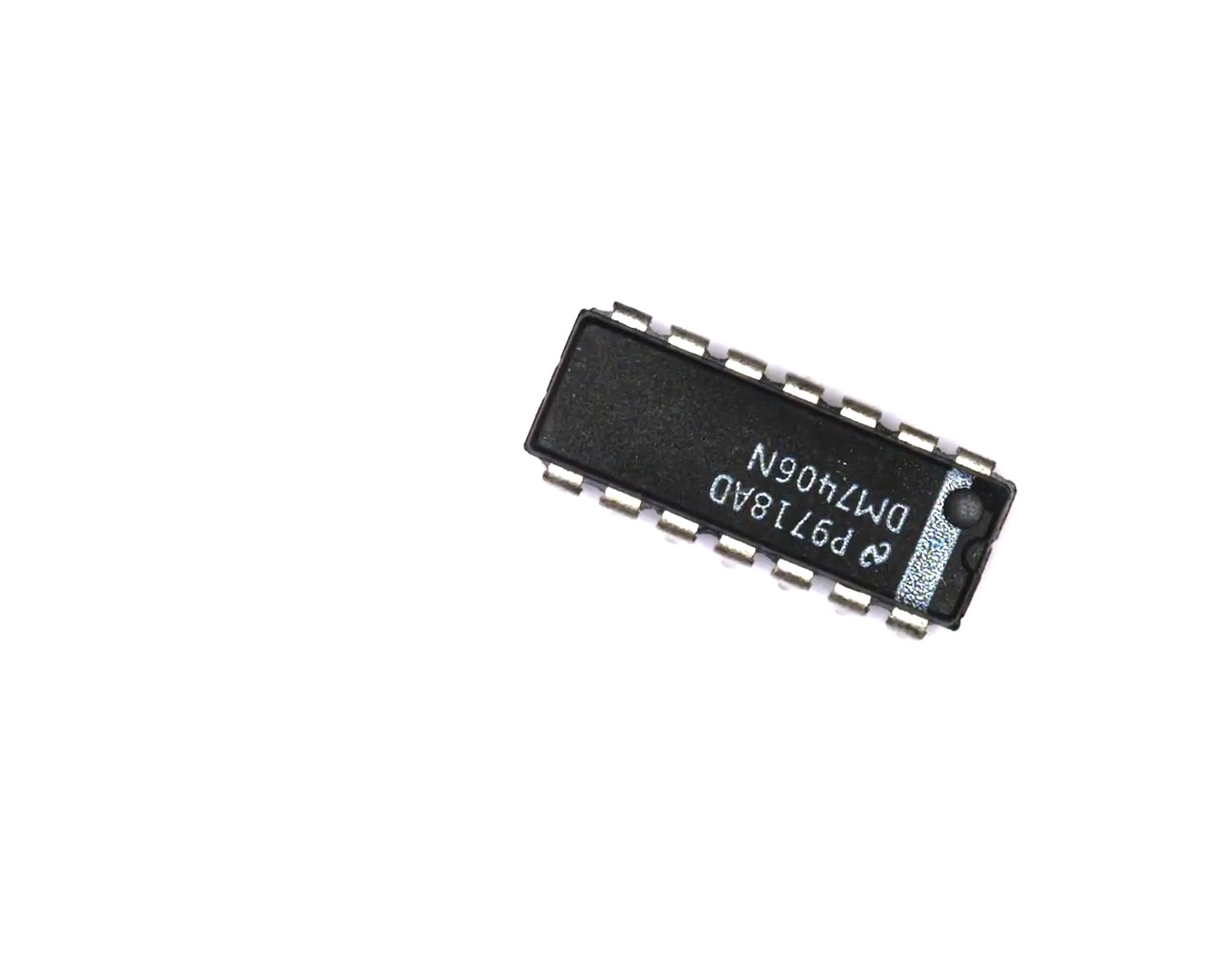IC: (500, 271, 1049, 671)
notch: (956, 535, 997, 584)
